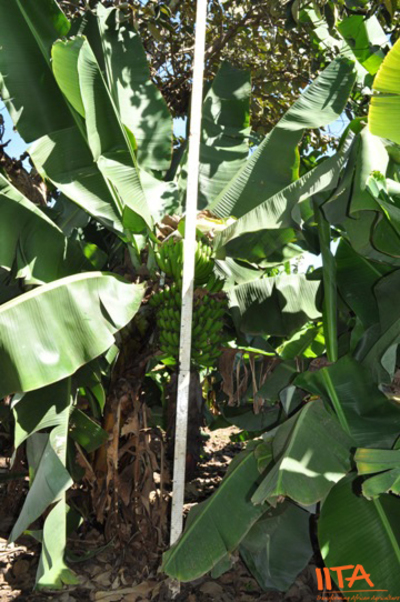bananaHand: (148, 233, 229, 369)
